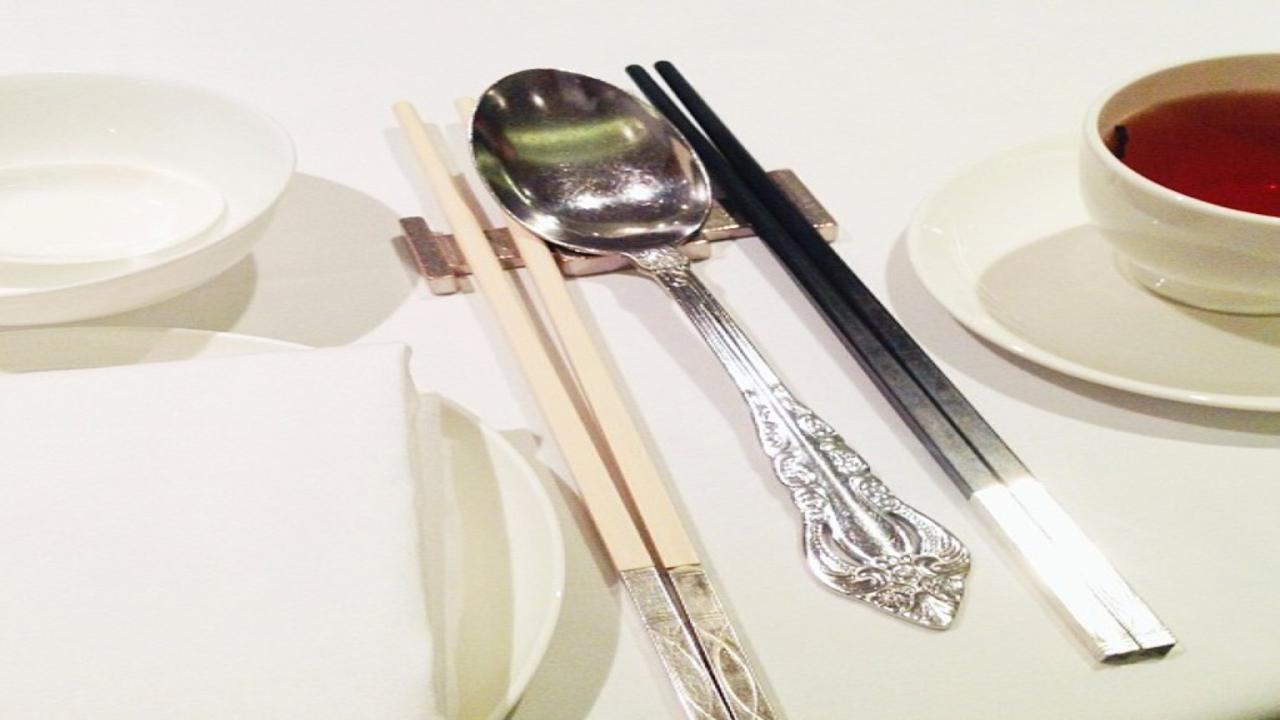chopstick: (629, 66, 1170, 663), (395, 96, 791, 720)
